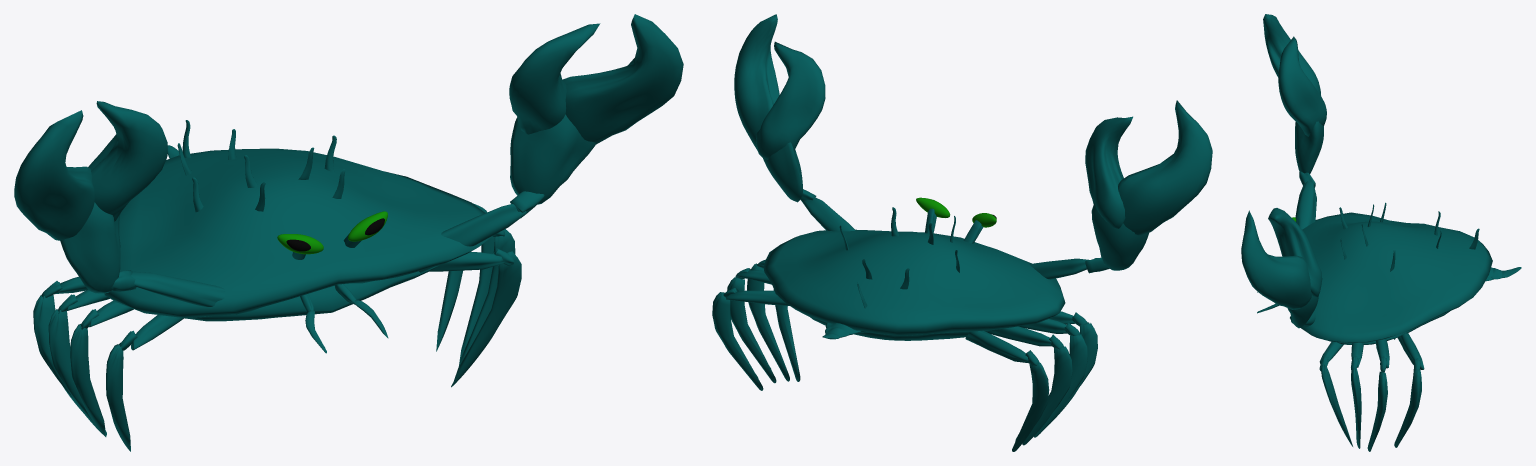
The model's file is crabe1.fbx.
The picture shows the model from 3 angles, left to right: view 1: azimuth 30°, elevation 25°; view 2: azimuth 150°, elevation 25°; view 3: azimuth 270°, elevation 25°; orthographic projection. The views are drawn at different scales.
Visible parts, largest first — view 1: patte 4 gauche.001; view 2: patte 4 gauche.001; view 3: patte 4 gauche.001.
Part boxes in pixels (x1,y1,x2,y2): patte 4 gauche.001: [14, 14, 683, 451]; patte 4 gauche.001: [712, 14, 1212, 451]; patte 4 gauche.001: [1241, 14, 1521, 451].
Size of the model in its own units: 58.4 by 37.37 by 32.71.
